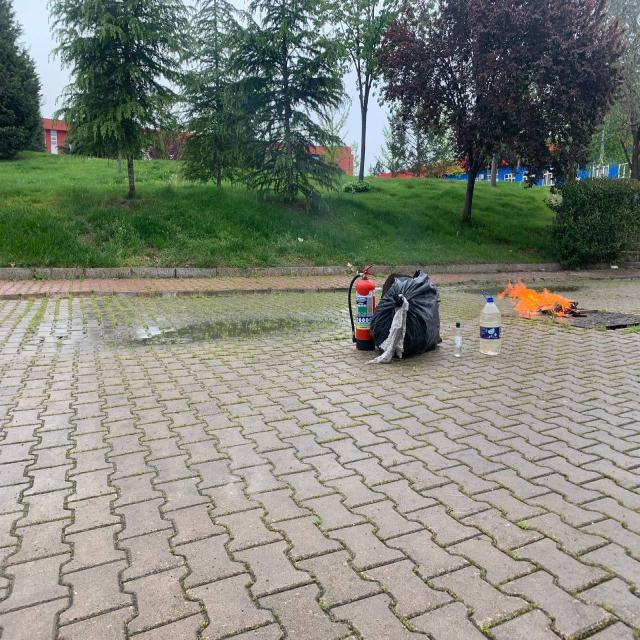fire: (503, 279, 588, 322)
